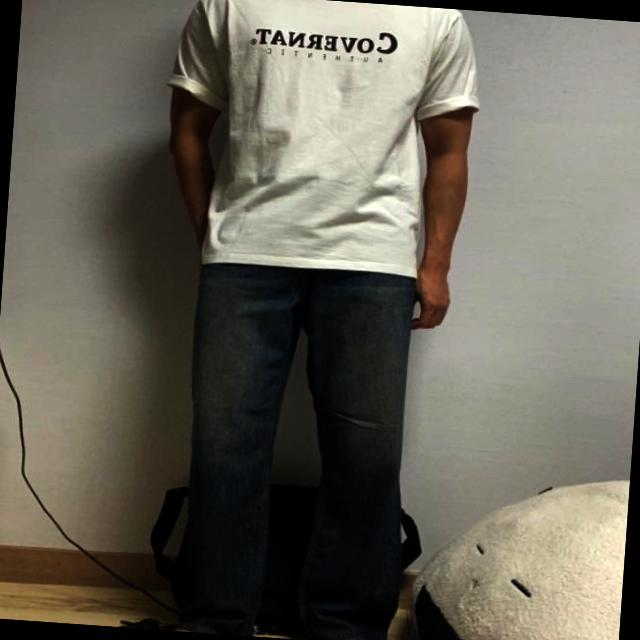denimpants: (171, 258, 414, 640)
shortsleeve: (153, 0, 482, 283)
